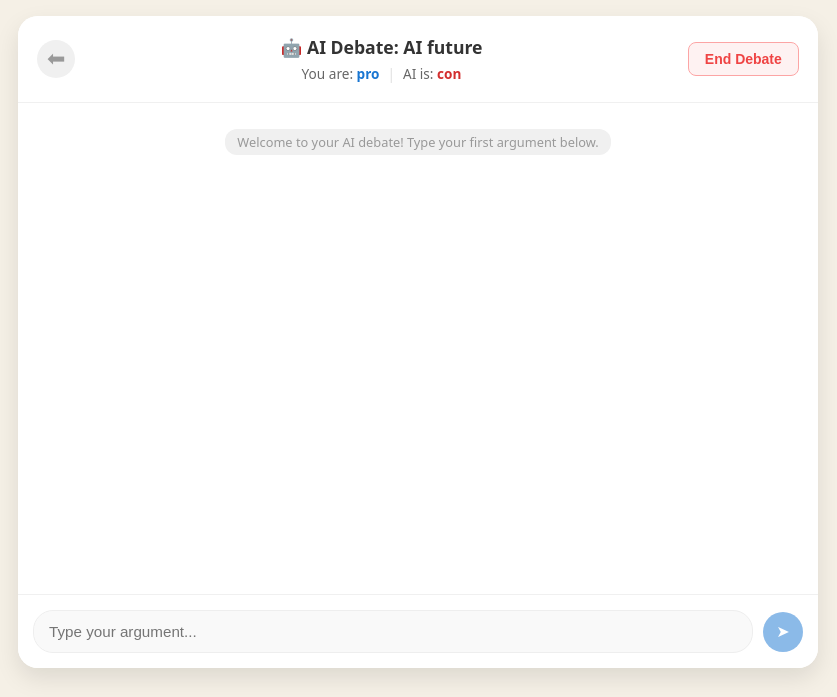
Test: AIDebatePage › loads existing debate and sends message
Expected: the heading "🤖 AI Debate: AI future" is shown, [280,35,482,59]
In the field with placeholder "Type your argument...": (393, 632) [33,610,753,653], type "Point A"
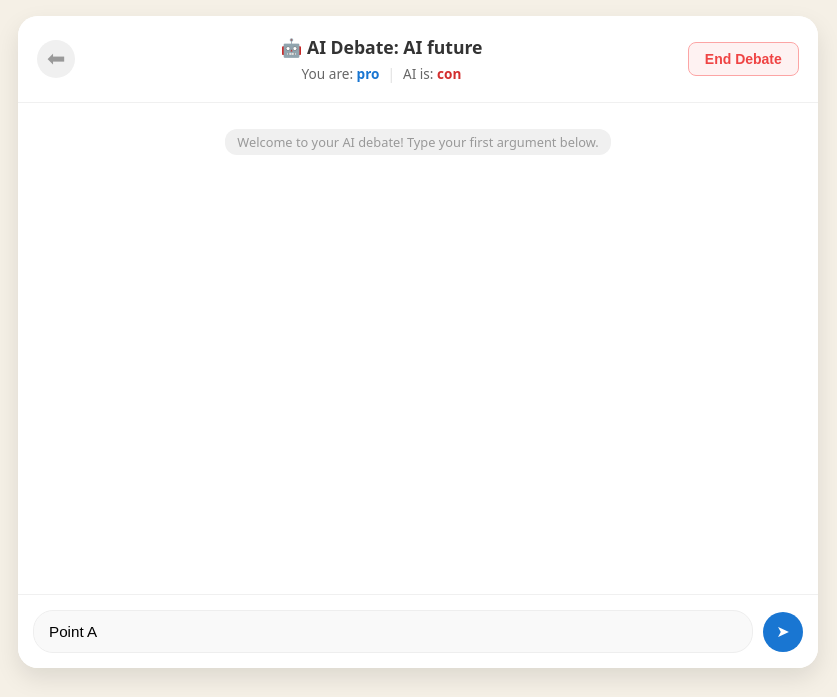
Click the button "➤": (783, 632) [763,612,803,652]
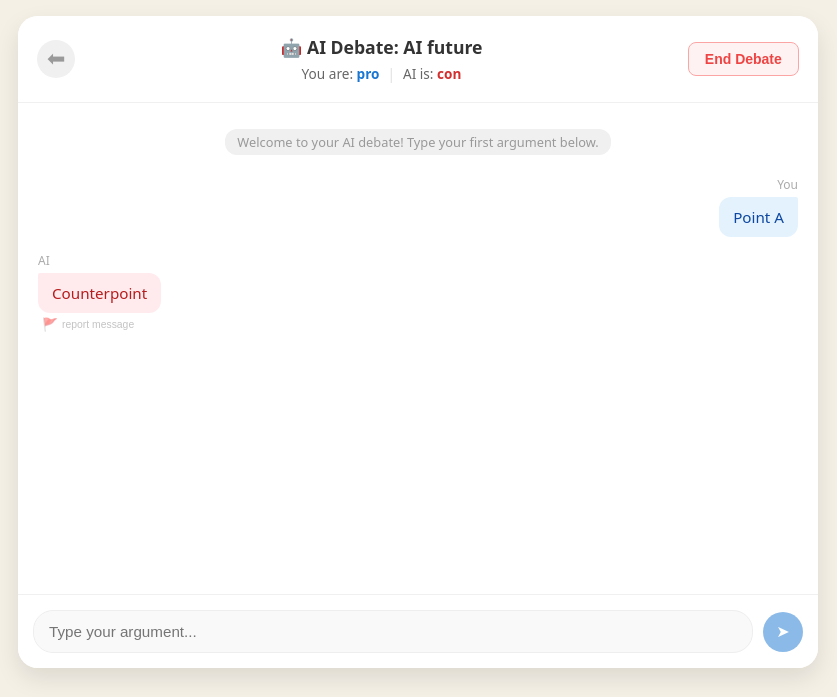
Expected: the text "Counterpoint" is shown, [38,273,161,313]
